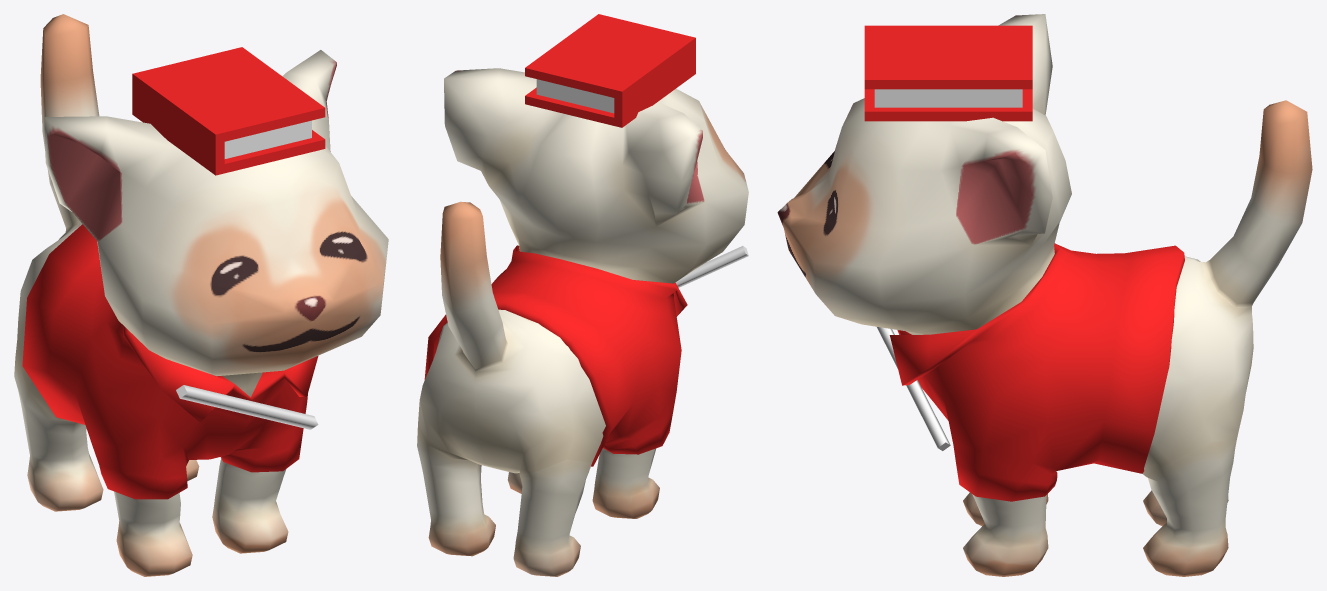
File: Disciplinarian Cat02.fbx
3 views of the same model, side by side, from view 1: azimuth 30°, elevation 25°; view 2: azimuth 150°, elevation 25°; view 3: azimuth 270°, elevation 25° (orthographic). The views are drawn at different scales.
Visible parts, largest first — view 1: Cat_Base001, Disciplinarian_Cat_Shirt, Disciplinarian_Cat_Handbook, Cone001; view 2: Cat_Base001, Disciplinarian_Cat_Shirt, Disciplinarian_Cat_Handbook, Cone001; view 3: Cat_Base001, Disciplinarian_Cat_Shirt, Disciplinarian_Cat_Handbook, Cone001.
Part boxes in pixels (x1,y1,x2,y2): Cat_Base001: (14, 14, 388, 576); Disciplinarian_Cat_Shirt: (22, 224, 318, 499); Disciplinarian_Cat_Handbook: (132, 47, 325, 175); Cone001: (176, 385, 318, 429); Cat_Base001: (417, 68, 748, 576); Disciplinarian_Cat_Shirt: (424, 245, 687, 466); Disciplinarian_Cat_Handbook: (525, 14, 695, 127); Cone001: (675, 246, 748, 287); Cat_Base001: (777, 14, 1312, 576); Disciplinarian_Cat_Shirt: (889, 243, 1184, 501); Disciplinarian_Cat_Handbook: (864, 25, 1032, 121); Cone001: (877, 327, 950, 450).
Bounding box in the file's own units: 1.75 × 2.83 × 2.85.
3 materials, 1 textured.
